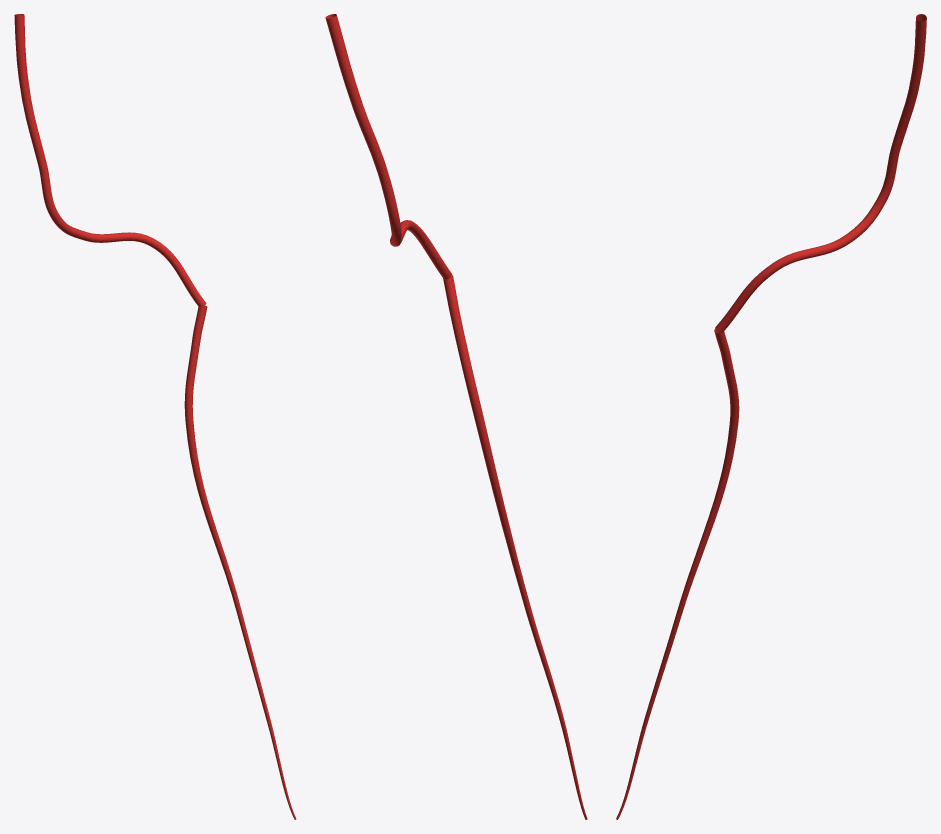
The model's file is circulatorio-common-interosseous-artery-r.glb.
3 views of the same model, side by side, from view 1: azimuth 90°, elevation 25°; view 2: azimuth 150°, elevation 25°; view 3: azimuth 270°, elevation 25° (orthographic). The views are drawn at different scales.
Visible parts, largest first — view 1: Recurrent interosseous artery.r, Posterior interosseous artery.r; view 2: Posterior interosseous artery.r, Recurrent interosseous artery.r; view 3: Recurrent interosseous artery.r, Posterior interosseous artery.r.
Part boxes in pixels (x1,y1,x2,y2): Recurrent interosseous artery.r: (14,14,206,306); Posterior interosseous artery.r: (184,341,296,819); Posterior interosseous artery.r: (451,318,587,819); Recurrent interosseous artery.r: (325,14,452,279); Recurrent interosseous artery.r: (715,14,926,332); Posterior interosseous artery.r: (616,358,739,819).
Size of the model in its own units: 0.0243 by 0.2108 by 0.0702.
